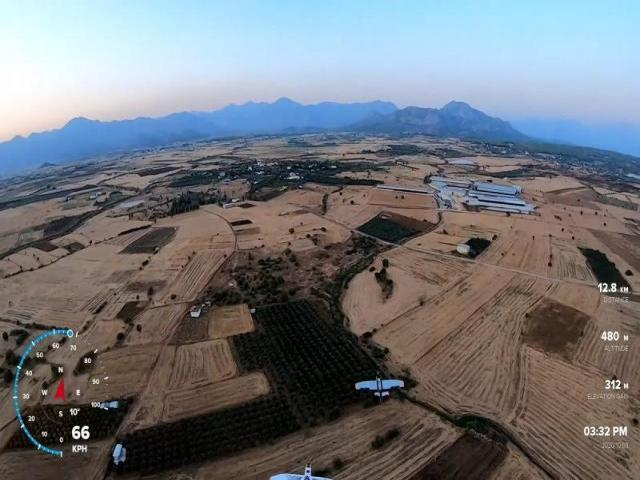hedef: (342, 368, 410, 404)
